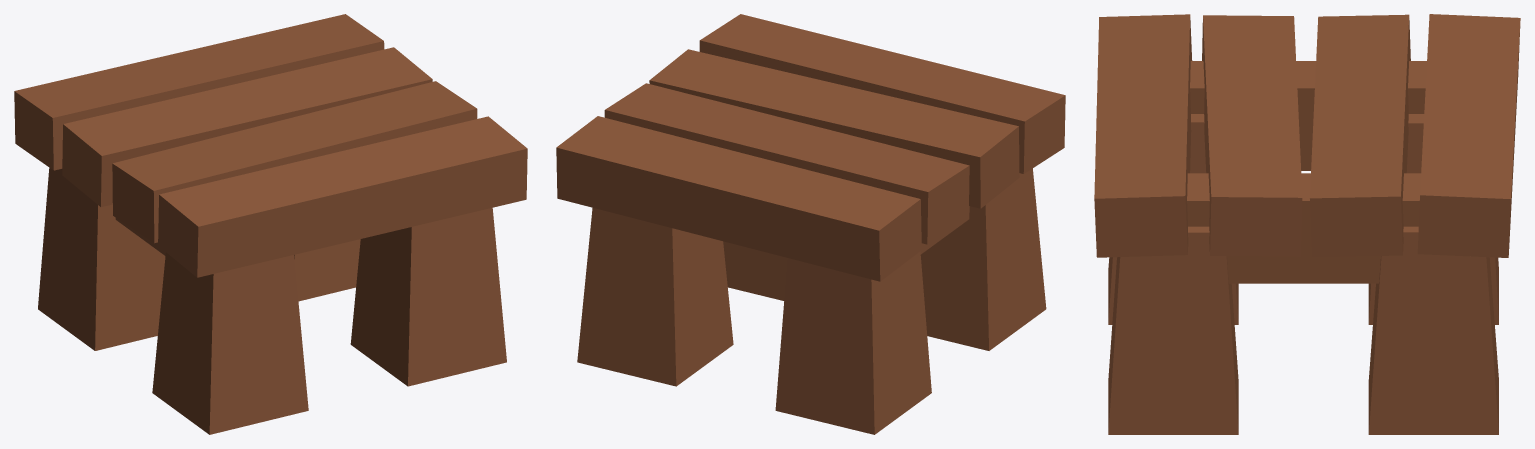
File: Table.glb
The picture shows the model from 3 angles, left to right: view 1: azimuth 30°, elevation 25°; view 2: azimuth 150°, elevation 25°; view 3: azimuth 270°, elevation 25°; orthographic projection. The views are drawn at different scales.
Visible parts, largest first — view 1: Cube; view 2: Cube; view 3: Cube.
Part boxes in pixels (<box>): Cube: <box>14,14,527,434</box>; Cube: <box>556,14,1065,434</box>; Cube: <box>1094,14,1520,434</box>.
Size of the model in its own units: 1.99 by 1.26 by 1.96.
